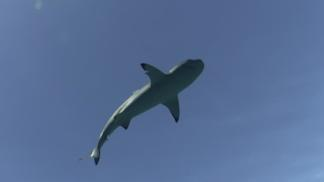Shark -Selachimorpha-: (70, 50, 212, 168)
